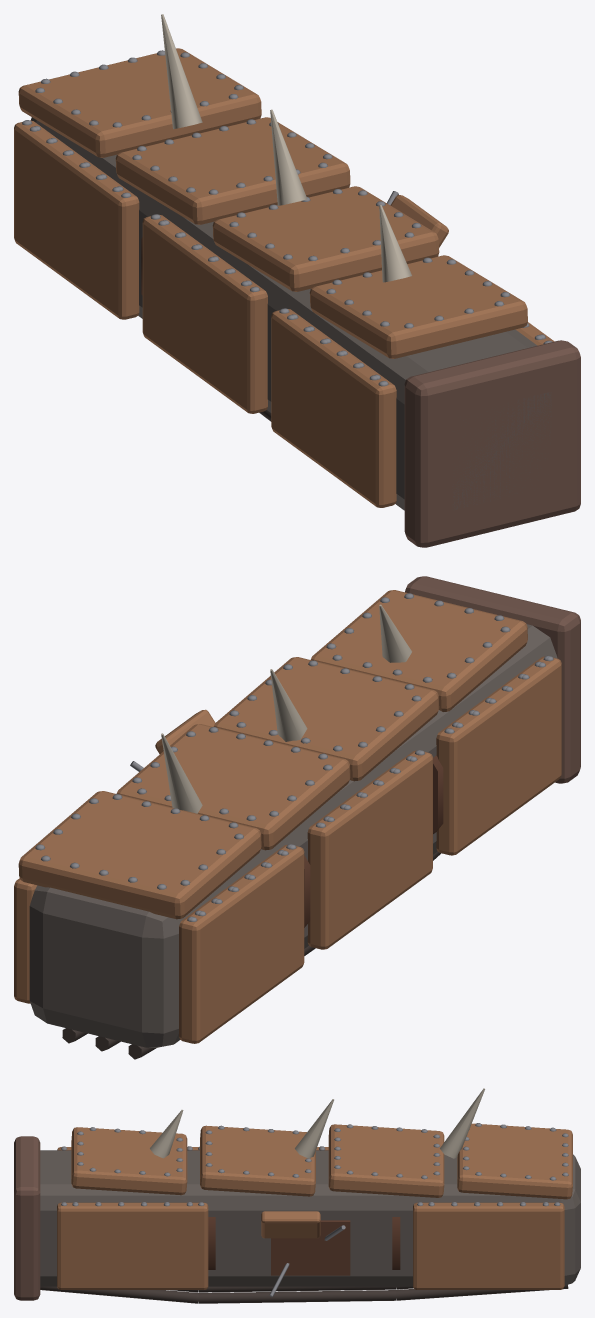
The model's file is gleaner_forearm.glb.
3 renders of one model, top to bottom at view 1: azimuth 30°, elevation 25°; view 2: azimuth 150°, elevation 25°; view 3: azimuth 270°, elevation 25°, orthographic. The views are drawn at different scales.
Visible parts, largest first — view 1: gl_heat, gl_rust.005, gl_rust.006, gl_rust.004, gl_rust, gl_rust.001, gl_rust.002, gl_rust.003, gl_iron, gl_bone, gl_bone.001, gl_bone.002 (+1 smaller); view 2: gl_iron, gl_rust, gl_rust.004, gl_rust.005, gl_rust.006, gl_rust.001, gl_rust.002, gl_rust.003, gl_heat, gl_rust.007, gl_bone, gl_bone.001 (+3 smaller); view 3: gl_iron, gl_rust.007, gl_rust.008, gl_rust, gl_rust.001, gl_rust.002, gl_rust.003, gl_heat, gl_ember.002, gl_rust.009, gl_soot.014, gl_soot.015 (+10 smaller).
Part boxes in pixels (x1,y1,x2,y2): gl_heat: (404,340,580,547); gl_rust.005: (142,215,267,413); gl_rust.006: (271,309,396,507); gl_rust.004: (14,120,139,319); gl_rust: (18,48,261,157); gl_rust.001: (115,117,350,224); gl_rust.002: (212,186,439,291); gl_rust.003: (309,255,527,358); gl_iron: (30,117,551,510); gl_bone: (161,14,202,129); gl_bone.001: (270,109,307,205); gl_bone.002: (379,205,411,282); gl_iron: (29,624,557,1047); gl_rust: (18,791,261,919); gl_rust.004: (179,844,304,1043); gl_rust.005: (307,750,432,949); gl_rust.006: (436,656,561,855); gl_rust.001: (116,724,350,850); gl_rust.002: (213,657,439,781); gl_rust.003: (310,590,527,711); gl_heat: (405,576,580,783); gl_rust.007: (14,878,36,1003); gl_bone: (161,733,202,813); gl_bone.001: (270,669,307,741); gl_iron: (40,1150,580,1286); gl_rust.007: (413,1202,564,1289); gl_rust.008: (57,1202,208,1289); gl_rust: (457,1123,572,1199); gl_rust.001: (328,1124,444,1197); gl_rust.002: (200,1125,315,1196); gl_rust.003: (71,1127,187,1195); gl_heat: (14,1136,40,1300); gl_ember.002: (271,1220,350,1275); gl_rust.009: (261,1211,320,1238); gl_soot.014: (297,1290,396,1302); gl_soot.015: (198,1291,297,1303).
Size of the model in its own units: 27.48 by 34.19 by 86.
